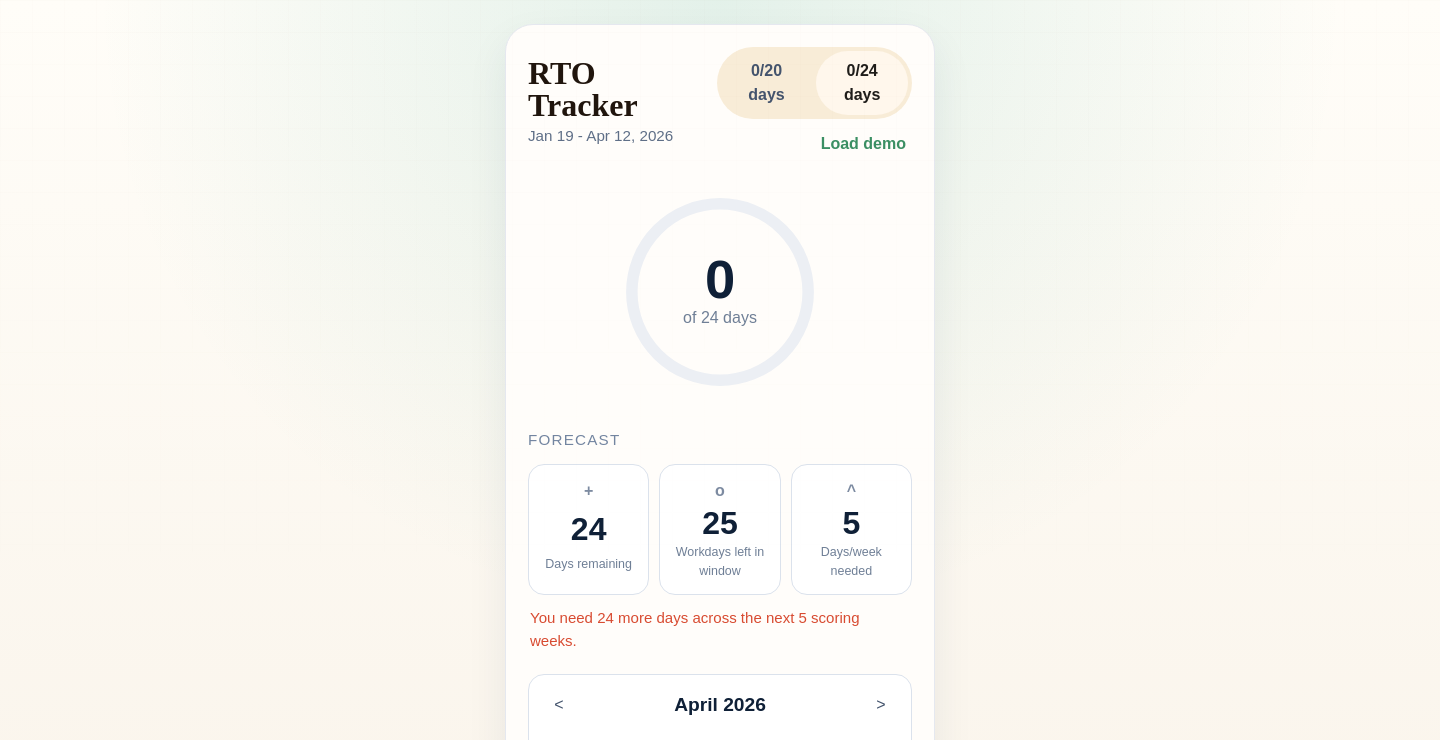
Test case: App › loads demo data into the compact tracker
Click the button "Load demo" at (863, 144), box [815,131,912,157]
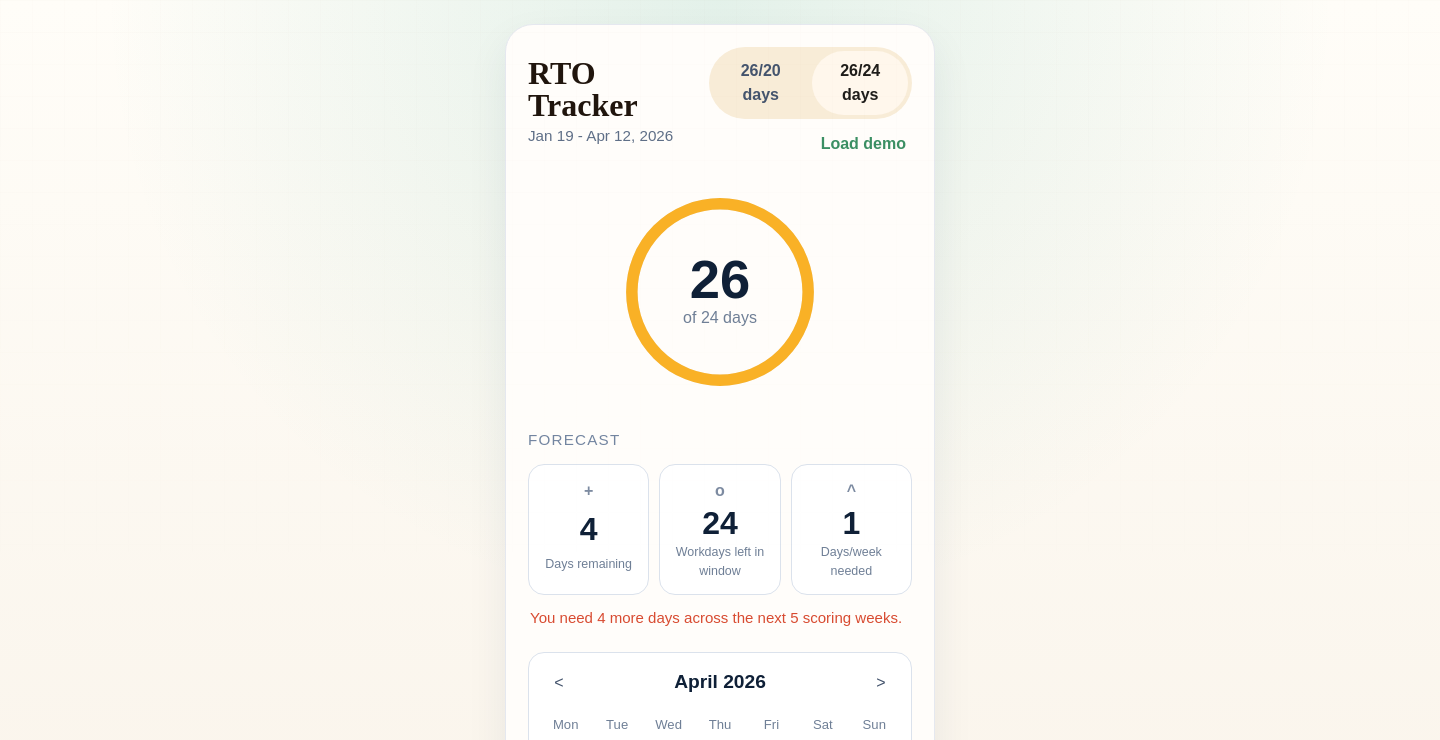
Expected: the button "26/24 days" is shown, [812,51,908,115]
